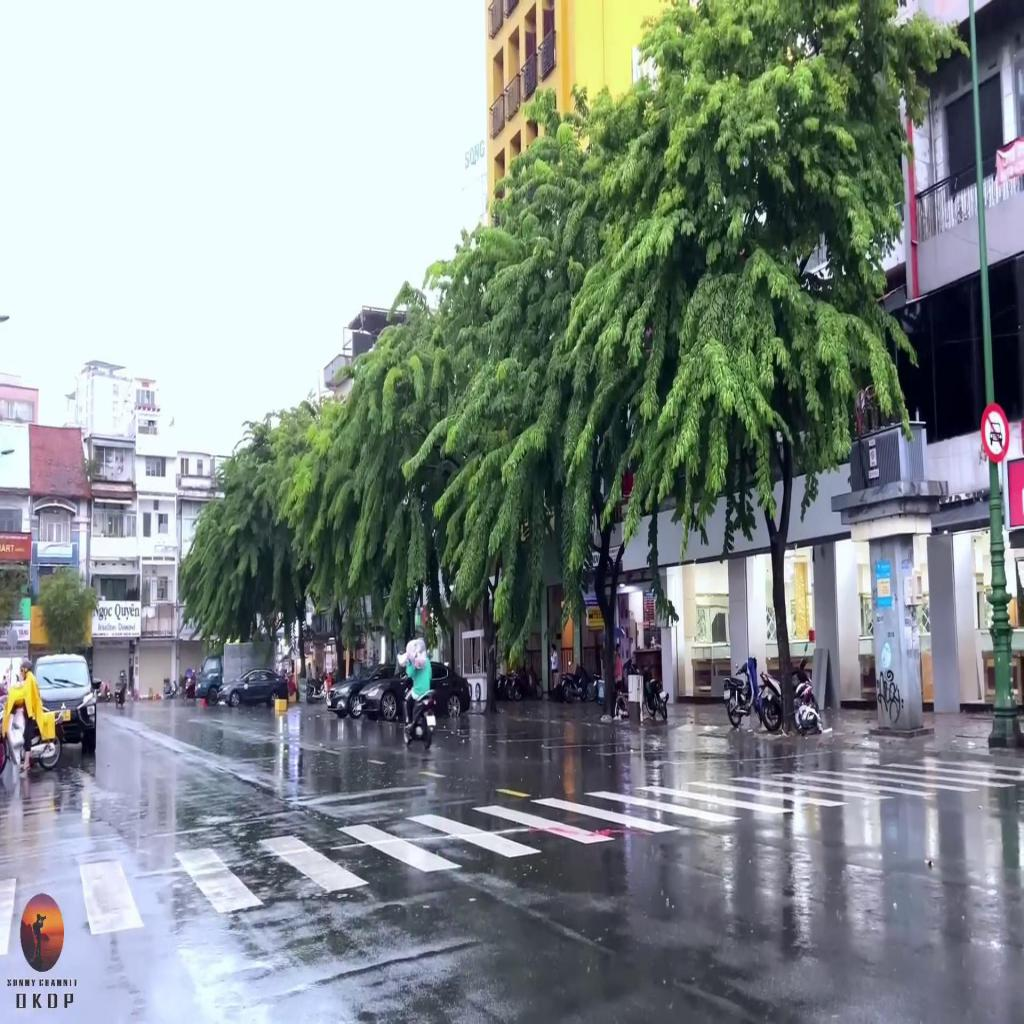cam_o_to: (981, 403, 1010, 463)
